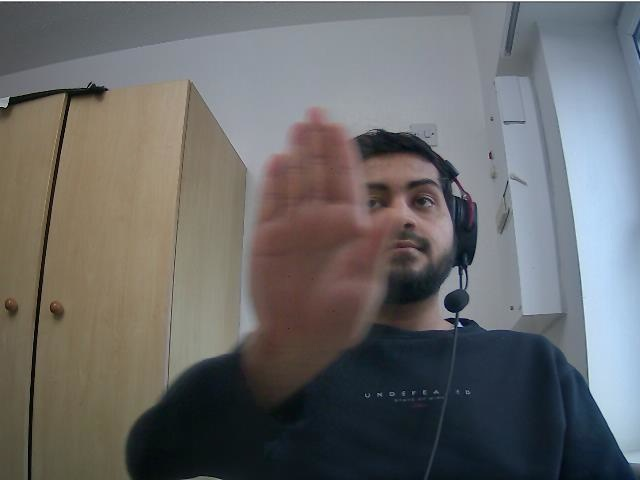up: (246, 106, 401, 339)
